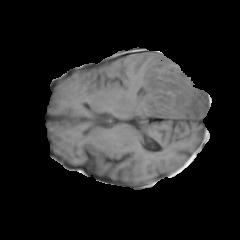glioma: (133, 55, 210, 117)
